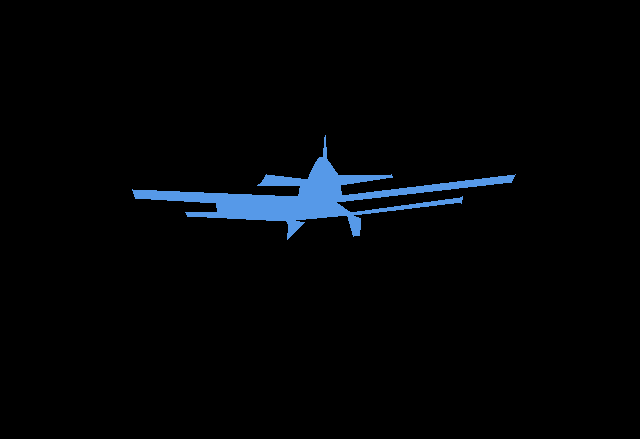Airplane: (132, 135, 515, 239)
